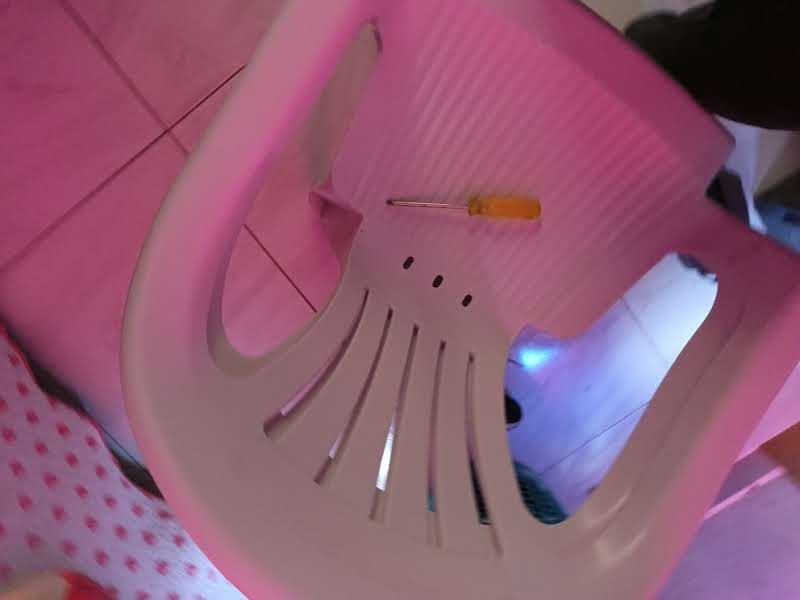Destornillador: (387, 196, 541, 220)
